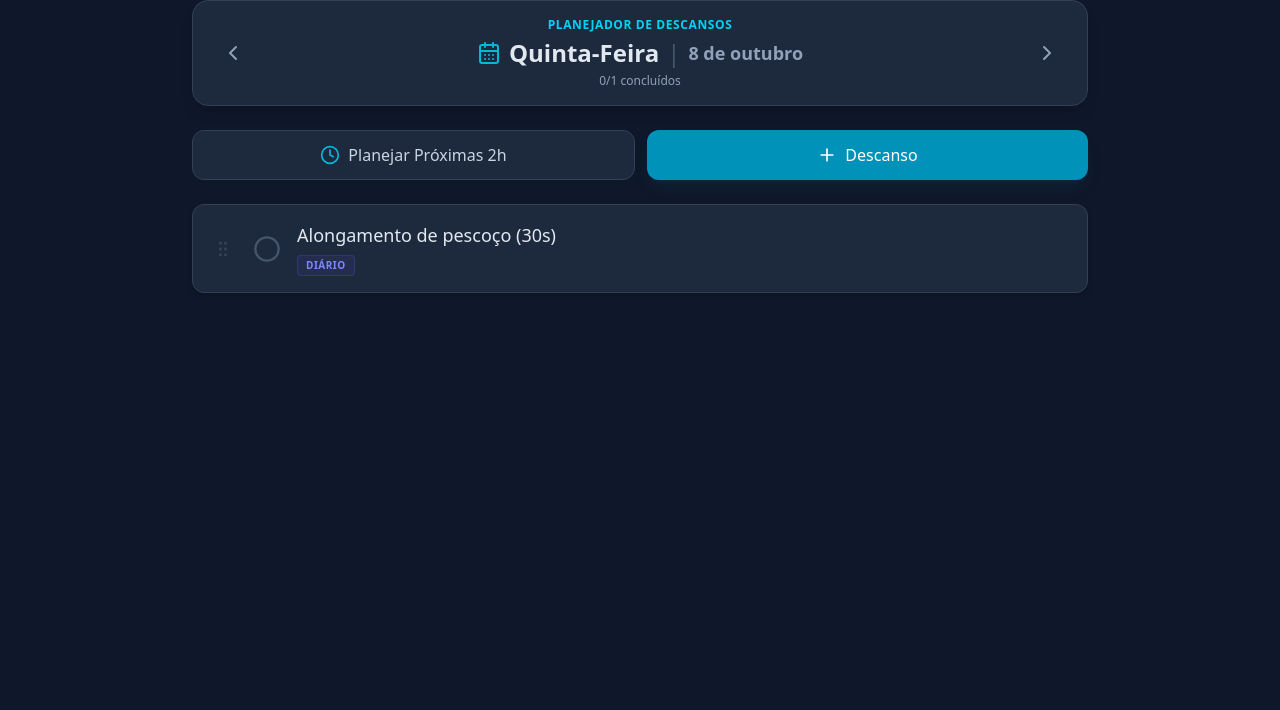
RestView - Next 2 Hours Mode › creates a rest activity with explicit series and allows marking them individually
The image size is (1280, 710).
Click the button "Descanso".
click(868, 155)  # box x1=647 y1=130 x2=1088 y2=180
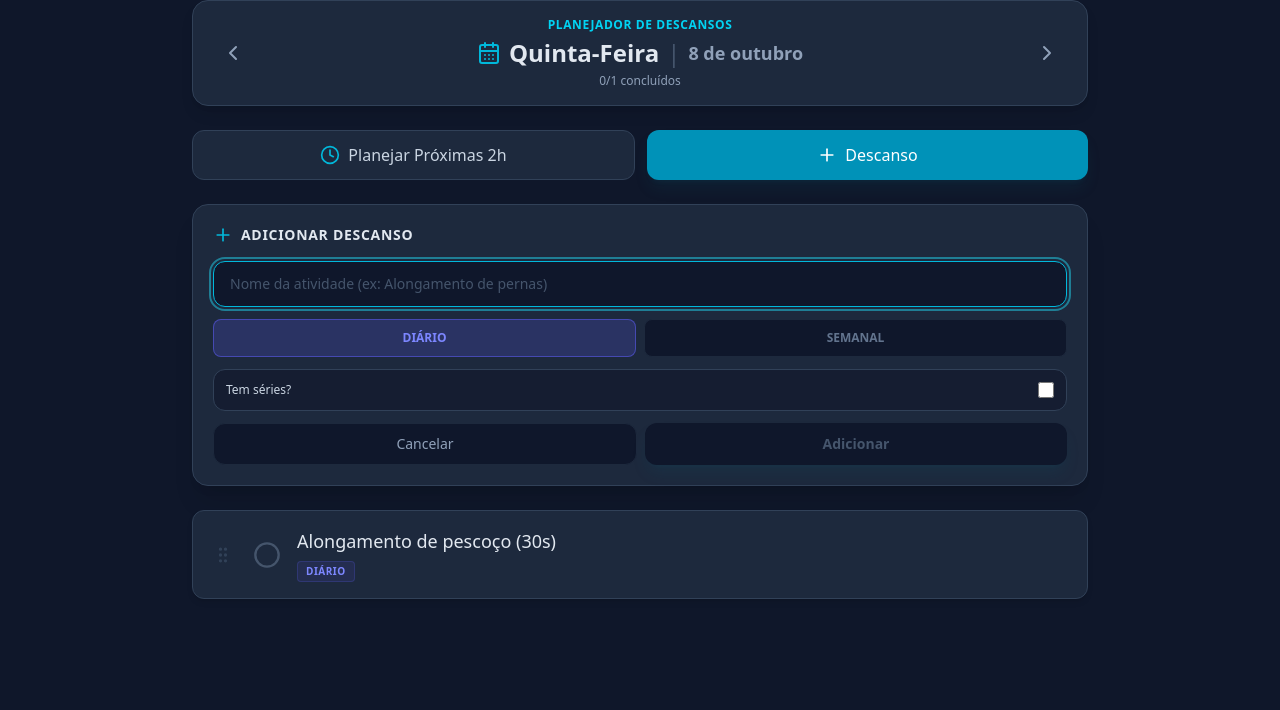
Type "Prancha guiada" into the field with placeholder "Nome da atividade (ex: Alongamento de pernas)".
click(640, 284); type("Prancha guiada")  # box x1=213 y1=261 x2=1067 y2=307
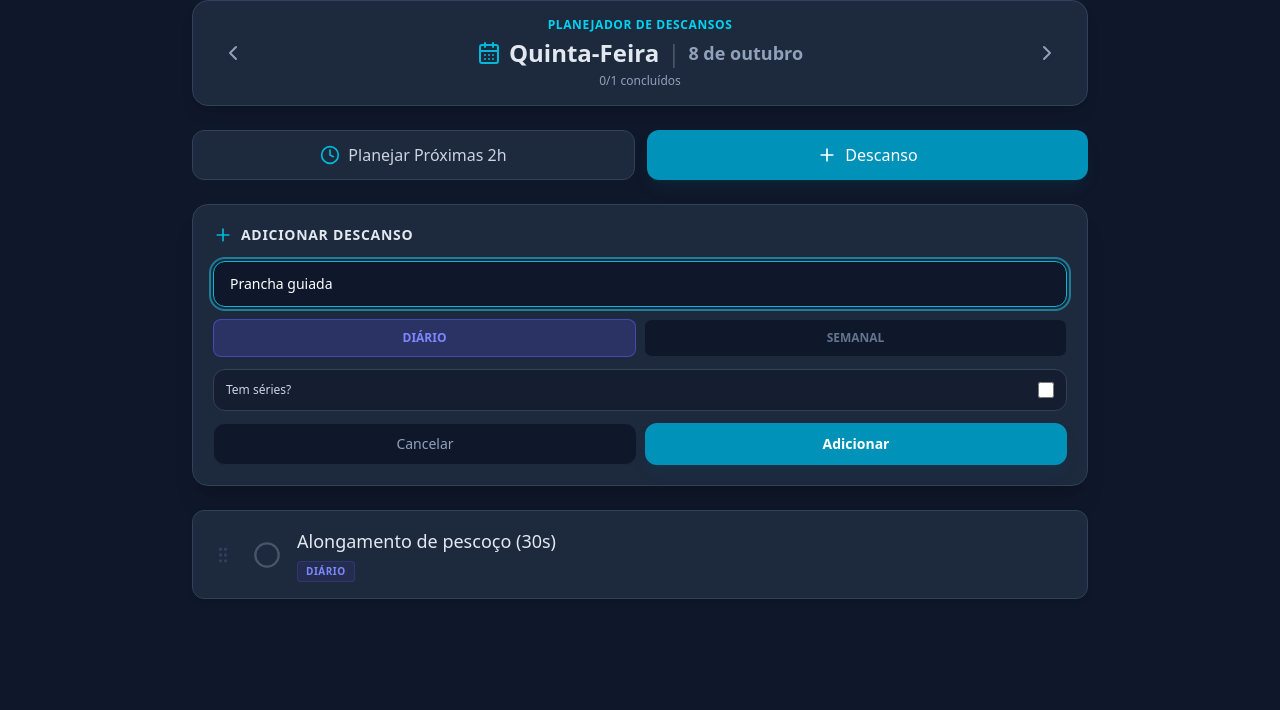
Click the checkbox.
click(1046, 390)  # box x1=1038 y1=382 x2=1054 y2=398
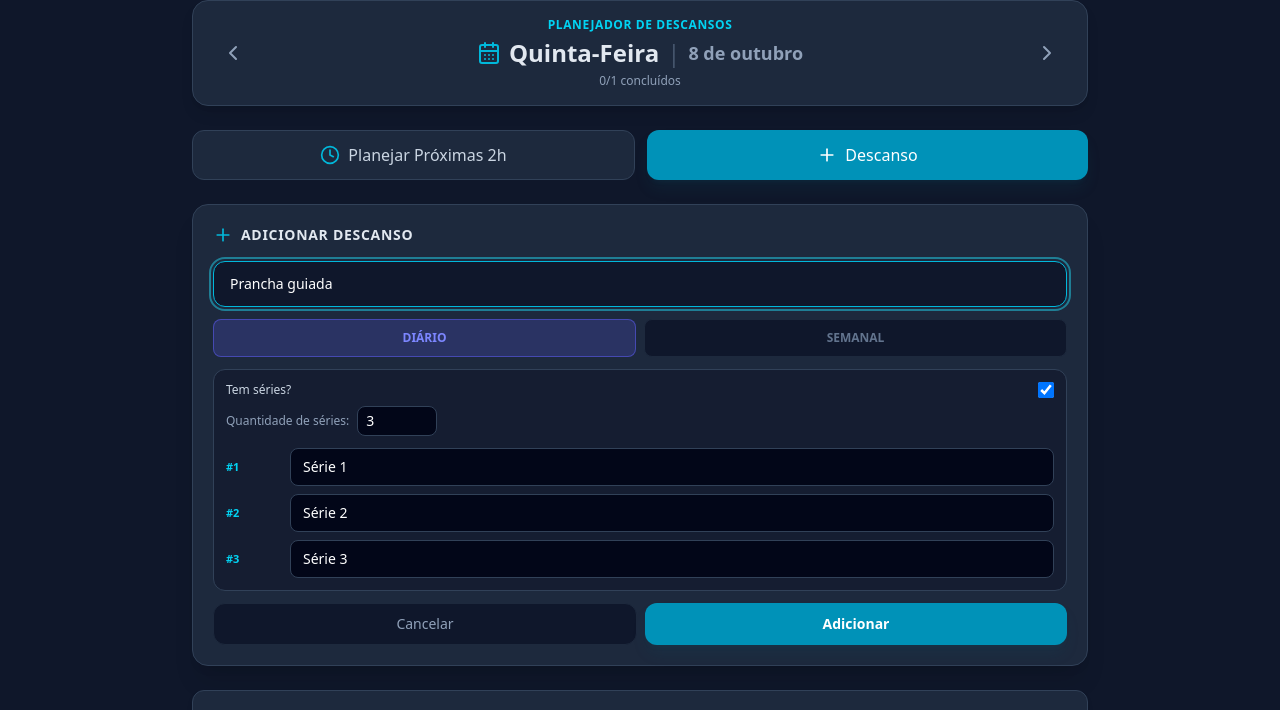
Click the button "Adicionar".
click(856, 624)  # box x1=645 y1=603 x2=1067 y2=645
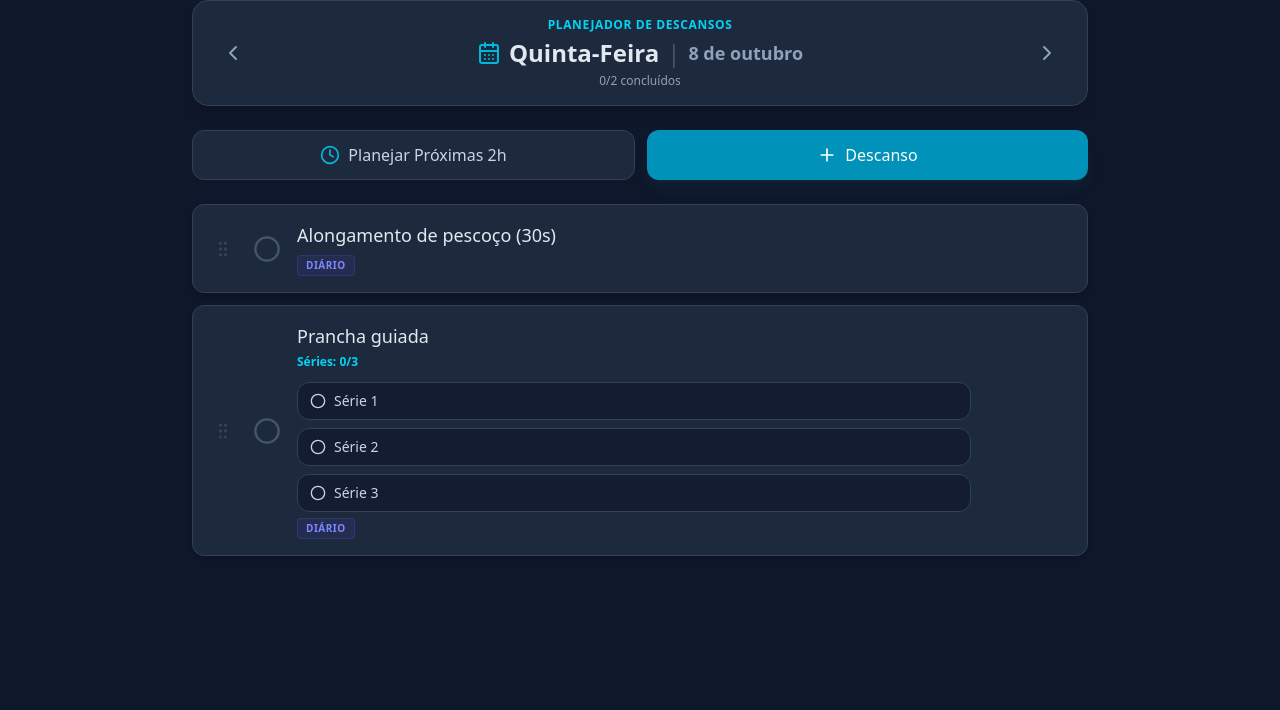
Check: the text "Prancha guiada" is shown, box x1=297 y1=324 x2=429 y2=348
Check: the text "Séries: 0/3" is shown, box x1=297 y1=353 x2=358 y2=370
Click the button "Série 1".
click(356, 400)  # box x1=297 y1=382 x2=971 y2=420
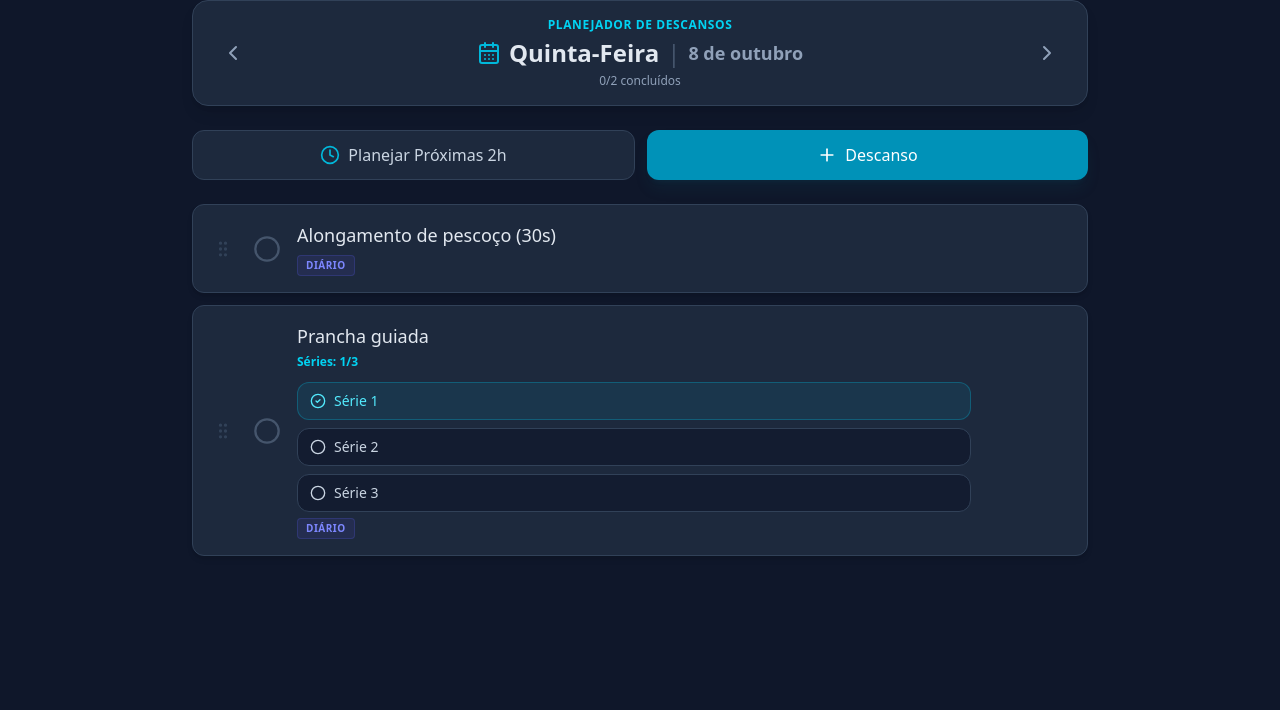
Check: the text "Séries: 1/3" is shown, box x1=297 y1=353 x2=358 y2=370
